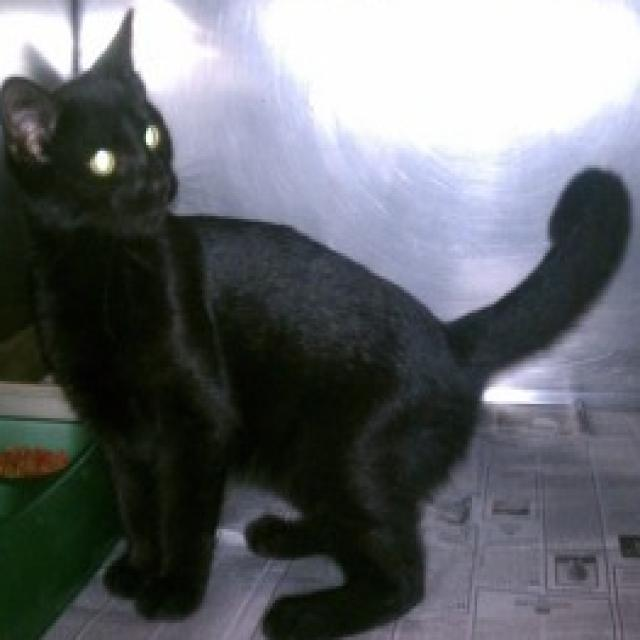Bombay: (0, 3, 635, 640)
